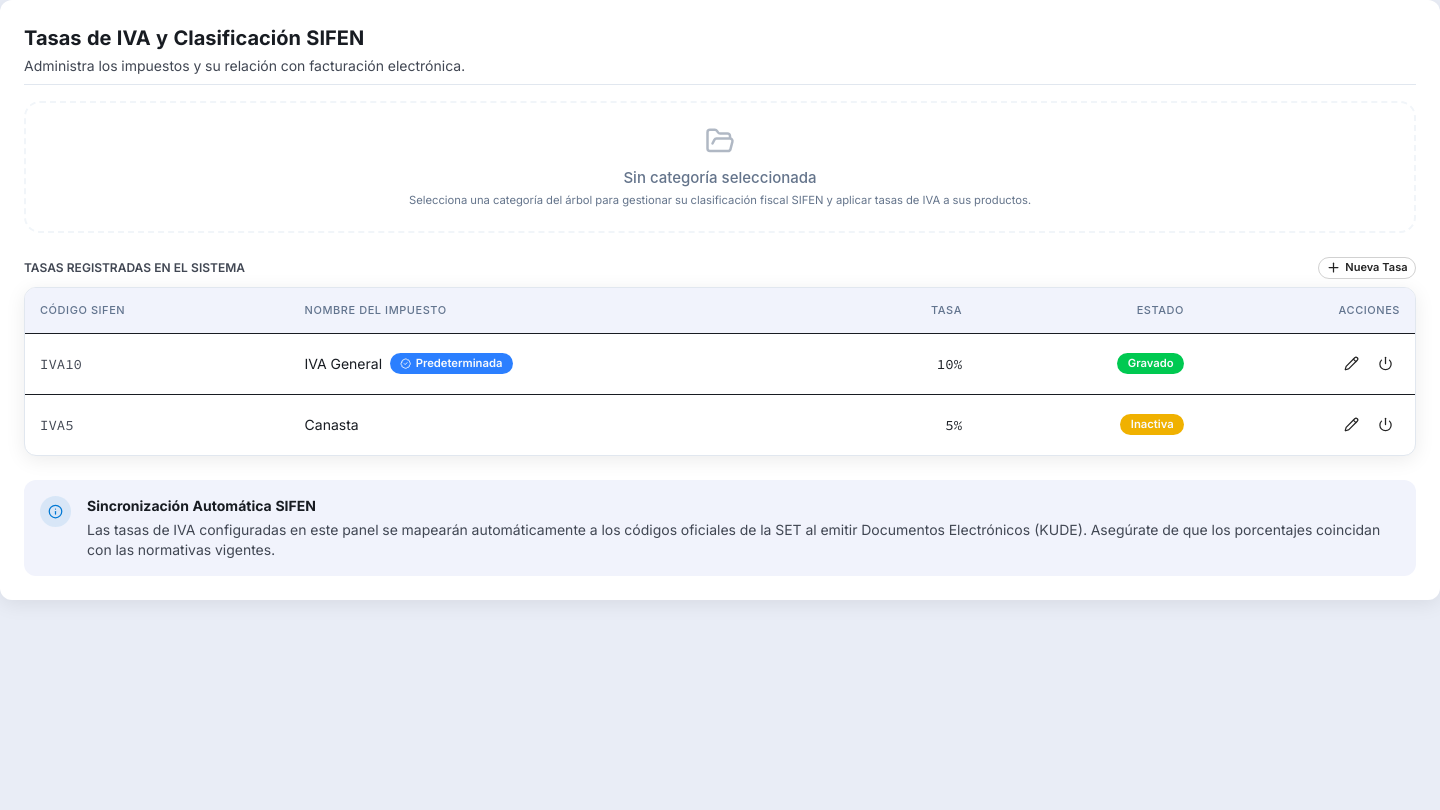
Test: TaxRatesPanel acciones de fila › muestra el botón de nueva tasa y abre el modal en alta
Click the button "Nueva Tasa": (1367, 268) [1318, 256, 1416, 279]
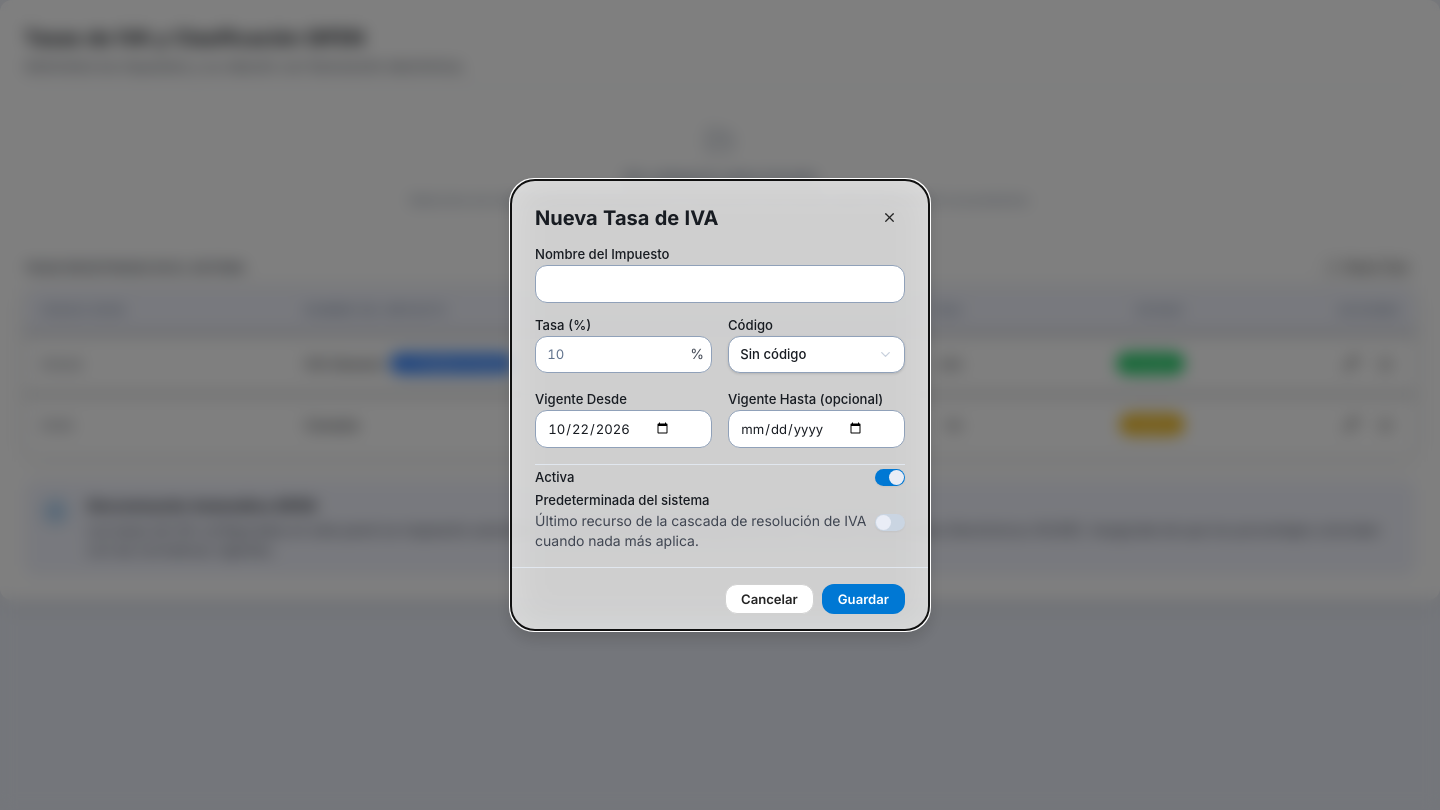
Expected: the field labelled "Nombre del Impuesto" is shown, [535, 265, 905, 302]
